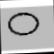no answer: (6, 6, 44, 43)
